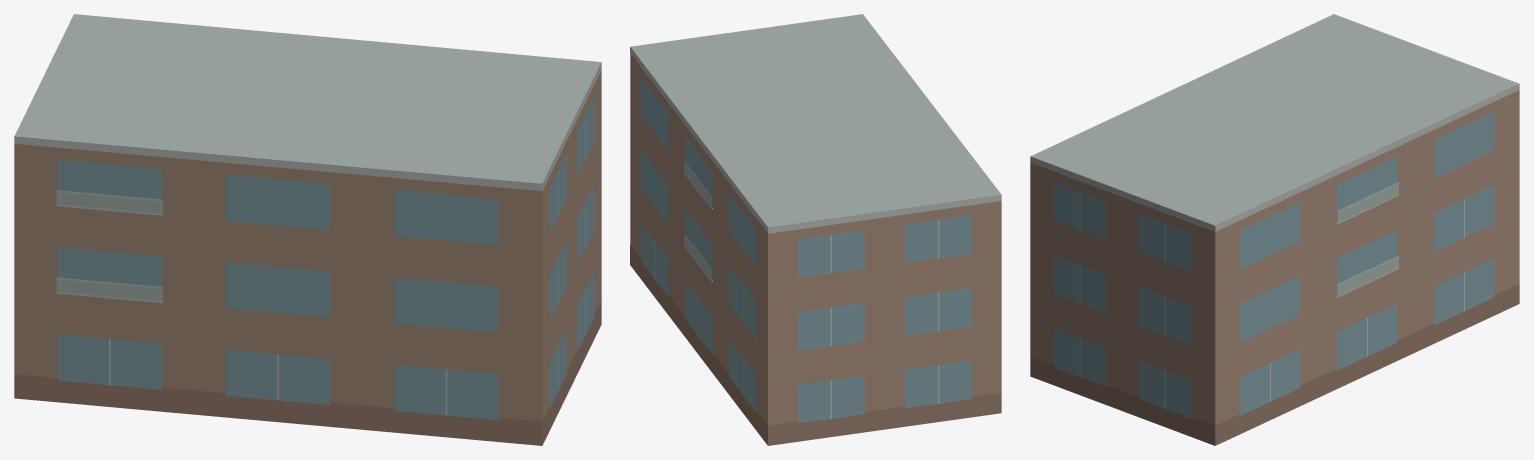
The model's file is survey-upis-32609599.glb.
3 views of the same model, side by side, from view 1: azimuth 30°, elevation 25°; view 2: azimuth 150°, elevation 25°; view 3: azimuth 270°, elevation 25° (orthographic). The views are drawn at different scales.
Visible parts, largest first — view 1: survey-upis-32609599.tmp; view 2: survey-upis-32609599.tmp; view 3: survey-upis-32609599.tmp.
Boxes of the visible parts, box(x1,y1,x2,y2) form: survey-upis-32609599.tmp: box(14, 14, 601, 445); survey-upis-32609599.tmp: box(630, 14, 1001, 445); survey-upis-32609599.tmp: box(1030, 14, 1519, 445).
Size of the model in its own units: 17.75 by 8.6 by 17.33.
